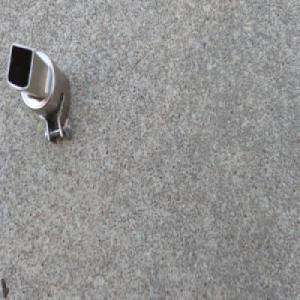MetalPart: (5, 40, 74, 144)
